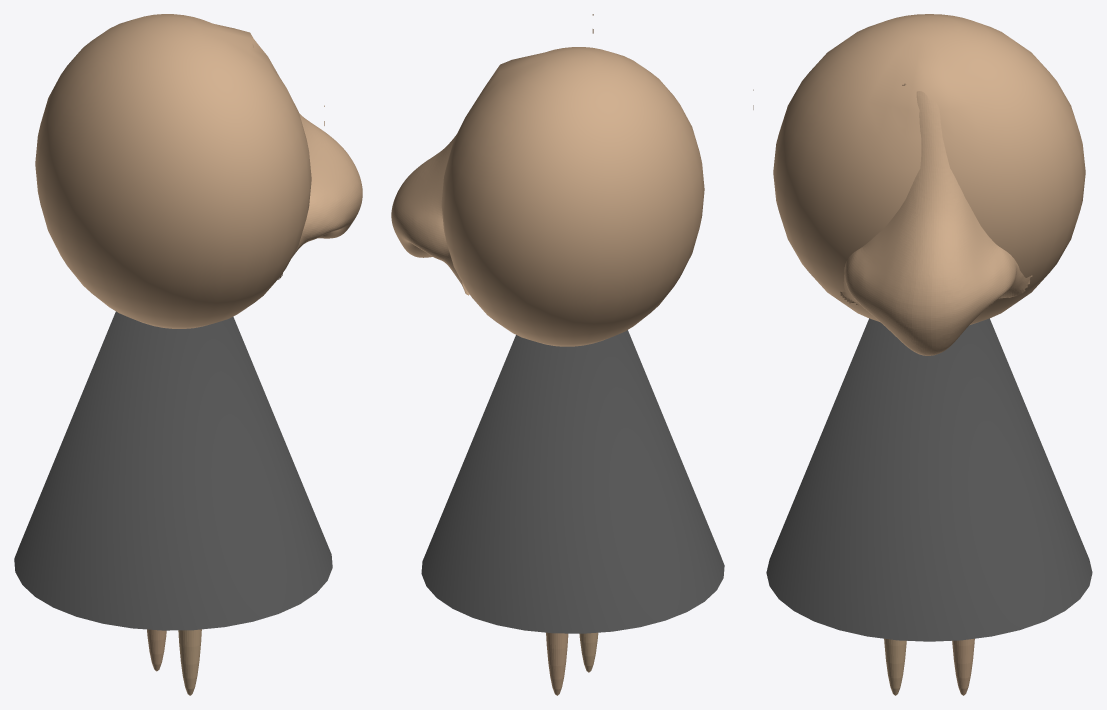
Rendered from 鼻Enemy.fbx.
The picture shows the model from 3 angles, left to right: view 1: azimuth 30°, elevation 25°; view 2: azimuth 150°, elevation 25°; view 3: azimuth 270°, elevation 25°; orthographic projection. The views are drawn at different scales.
Visible parts, largest first — view 1: 円錐, 球, nose, 球.003, 球.002; view 2: 円錐, 球, nose, 球.002, 球.003; view 3: 円錐, 球, nose, 球.002, 球.003.
Part boxes in pixels (x1,y1,x2,y2): 円錐: (14,311,332,630); 球: (35,14,311,328); nose: (252,44,362,279); 球.003: (178,629,201,695); 球.002: (147,629,166,671); 円錐: (421,330,724,633); 球: (441,47,704,346); nose: (391,14,593,295); 球.002: (546,632,568,695); 球.003: (579,632,598,672); 円錐: (766,318,1092,641); 球: (773,14,1085,325); nose: (753,83,1032,355); 球.002: (952,638,974,695); 球.003: (884,638,906,695).
Size of the model in its own units: 2.79 by 5.45 by 2.5.
